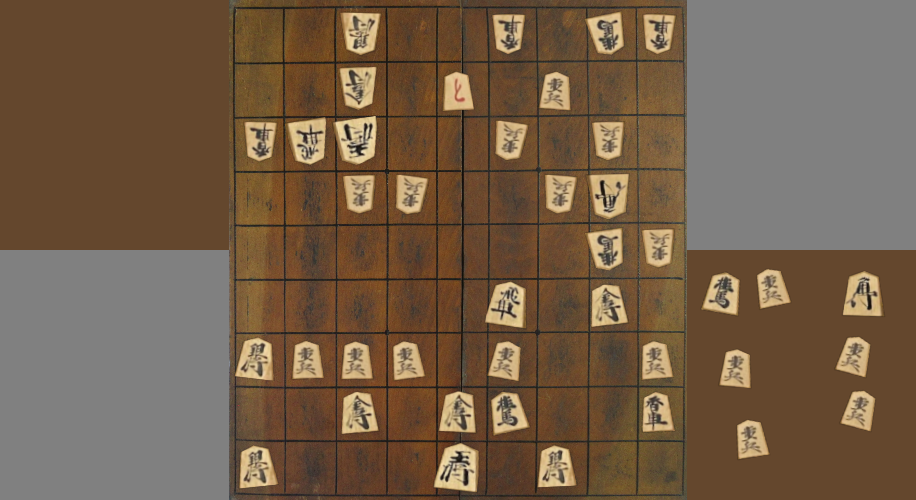A: (438, 61, 489, 116), (487, 333, 537, 389), (337, 386, 387, 441), (636, 331, 685, 387), (284, 333, 335, 386), (537, 62, 587, 116), (336, 333, 388, 384), (488, 278, 537, 331), (437, 386, 486, 439), (588, 279, 637, 331), (236, 334, 284, 387), (488, 388, 536, 441), (389, 331, 434, 387), (236, 441, 285, 492), (437, 442, 486, 493), (537, 443, 586, 493), (638, 388, 684, 441)
B: (334, 116, 387, 171), (587, 223, 639, 279), (587, 169, 638, 222), (336, 171, 388, 222), (586, 8, 637, 59), (235, 118, 285, 170), (386, 171, 436, 223), (538, 170, 590, 220), (588, 116, 638, 167), (338, 8, 386, 61), (286, 117, 334, 170), (639, 224, 687, 277), (337, 63, 386, 114), (489, 117, 538, 168), (637, 8, 683, 60), (488, 9, 531, 58)
C: (841, 269, 890, 322), (834, 387, 881, 435), (700, 269, 742, 321), (750, 267, 796, 313), (732, 415, 774, 461), (718, 347, 754, 391), (837, 334, 872, 378)
